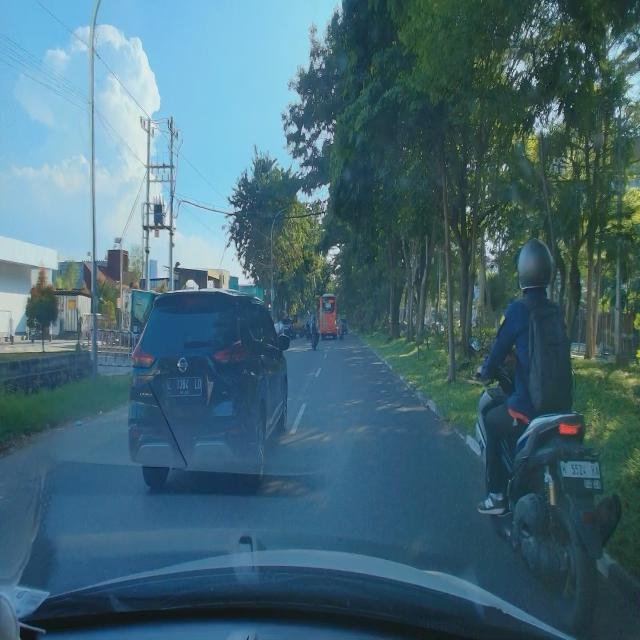bus: (319, 292, 338, 340)
car: (126, 281, 290, 488)
license-plate: (166, 376, 202, 397)
